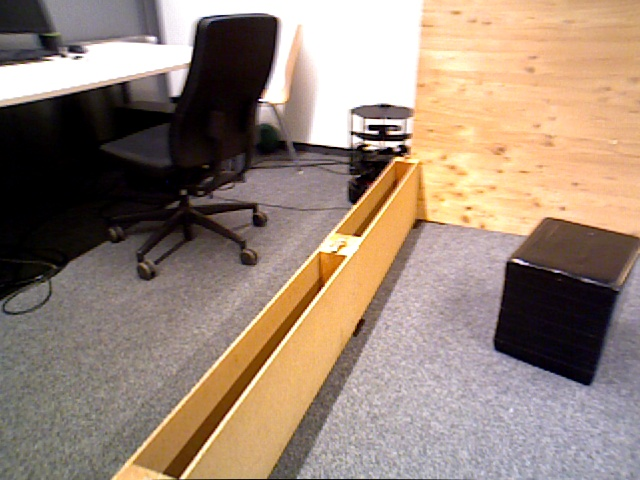push: (496, 217, 639, 385)
